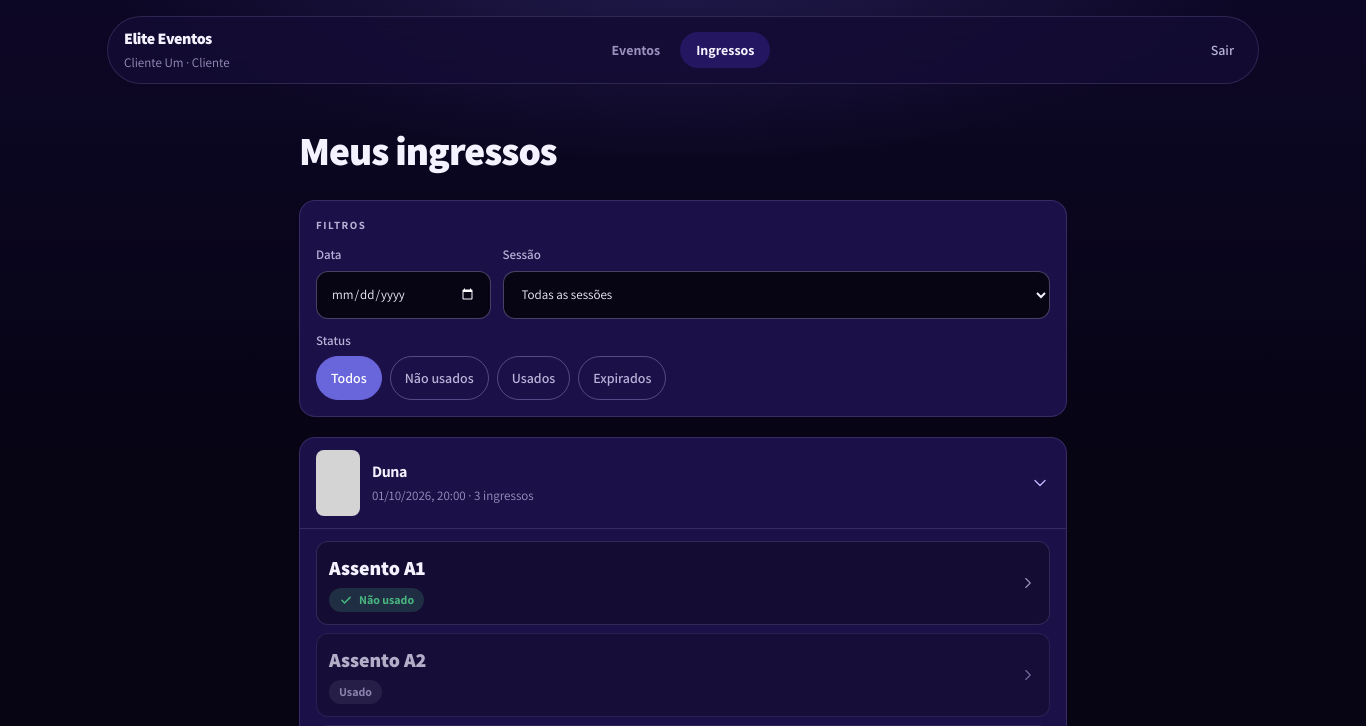
Scenario: TicketsPage › filtra por sessão e por status
Expected: the button "Duna 01/10/2026, 20:00 · 3 ingressos" is shown, [300, 438, 1066, 528]
Só a sessão do Oppenheimer.
Step 1. Select "Oppenheimer · 02/11/2026, 19:30" in the dropdown labelled "Sessão" → point(776, 294), box [502, 270, 1050, 318]
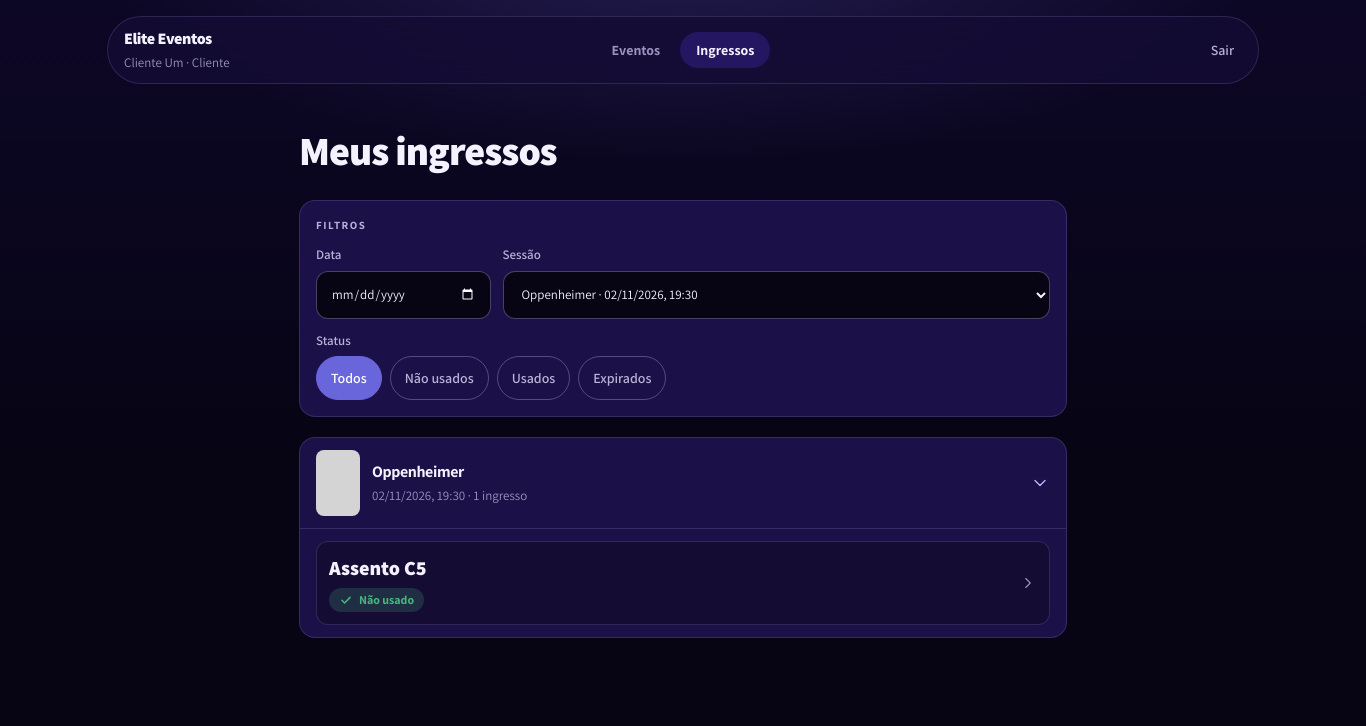
Result: the button "Duna" is gone
Result: the text "Assento C5" is shown at [329, 554, 426, 582]
Voltando a todas, o status corta os já usados.
Step 2. Select "Todas as sessões" in the dropdown labelled "Sessão" → point(776, 294), box [502, 270, 1050, 318]
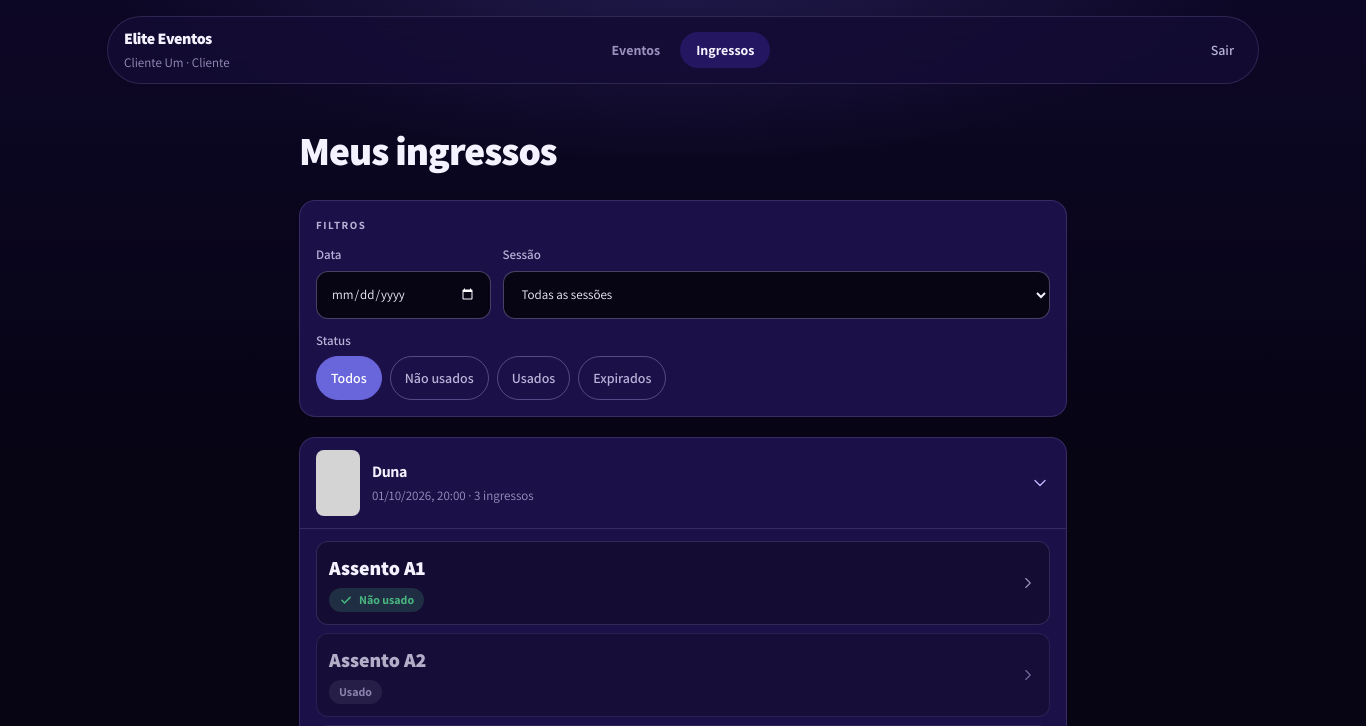
Step 3. Click the button "Usados" → point(533, 378), box [497, 356, 570, 400]
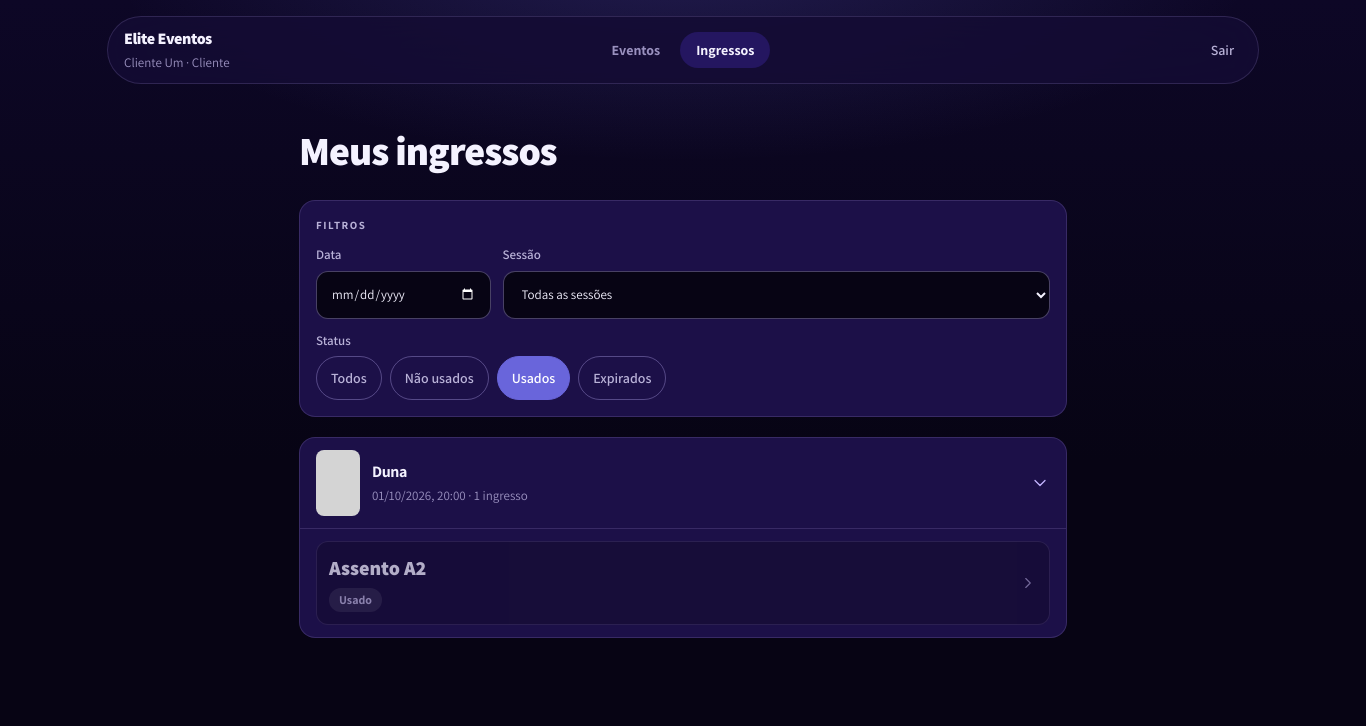
Result: the text "Assento A2" is shown at [329, 554, 426, 582]
Result: the button "Assento A1" is gone
Um recorte sem nenhum ingresso diz isso em vez de sumir com tudo.
Step 4. Select "Oppenheimer · 02/11/2026, 19:30" in the dropdown labelled "Sessão" → point(776, 294), box [502, 270, 1050, 318]
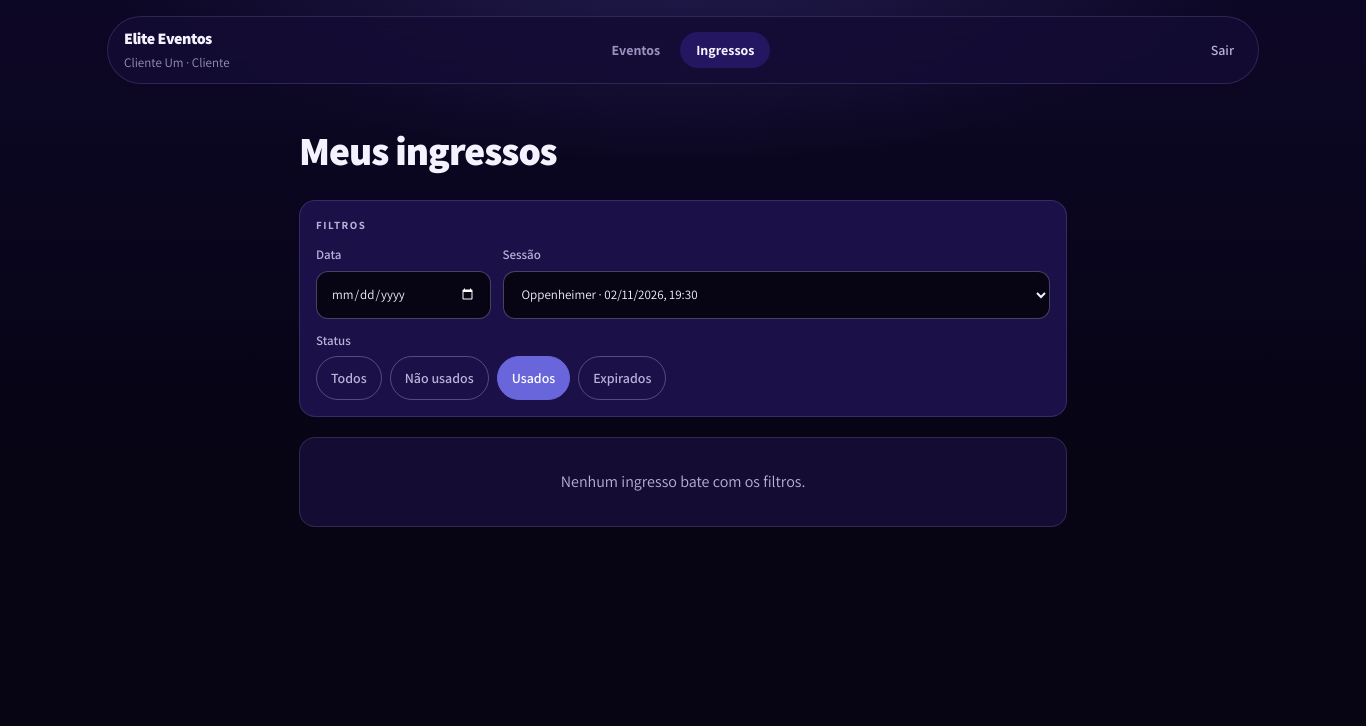
Result: the text "Nenhum ingresso bate com os filtros." is shown at [299, 437, 1067, 527]
